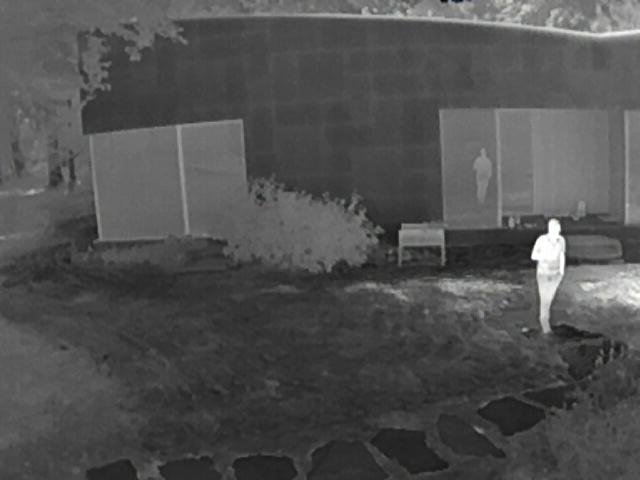person: (531, 217, 567, 336), (472, 148, 494, 203)
